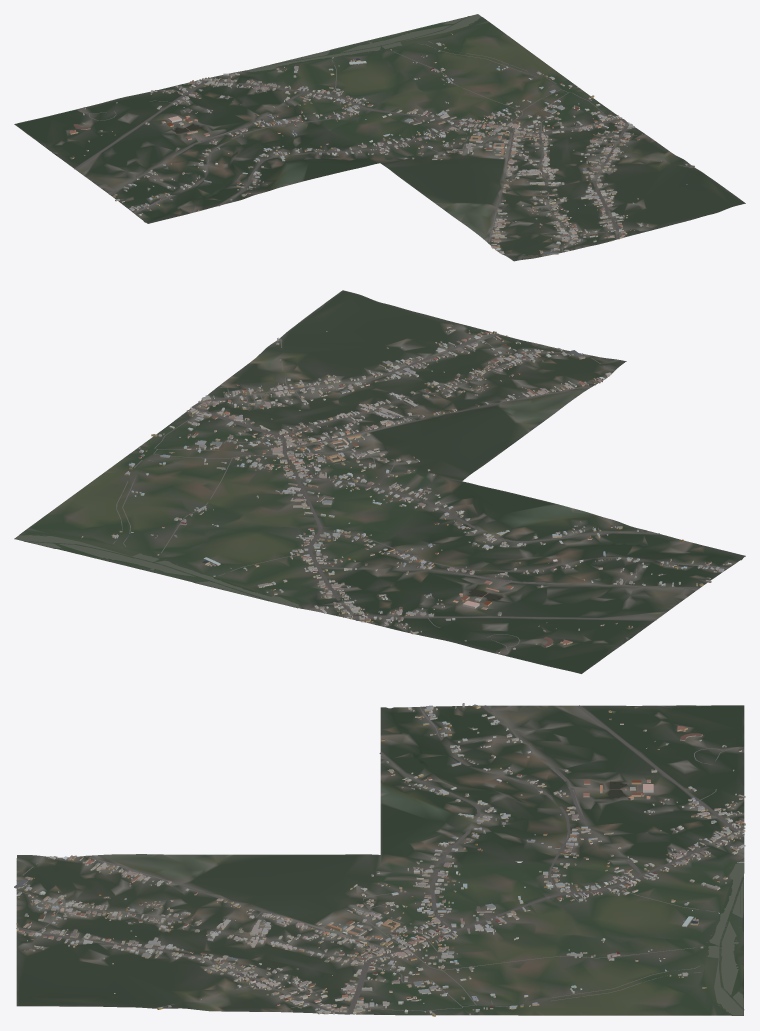
3 views of the same model, one above another, from view 1: azimuth 30°, elevation 25°; view 2: azimuth 150°, elevation 25°; view 3: azimuth 270°, elevation 25° (orthographic). The views are drawn at different scales.
Parts seen in each view (by area): view 1: ground, buildings, roads, water; view 2: ground, buildings, roads, water; view 3: ground, buildings, roads, water.
Boxes of the visible parts, x1=… form: ground: x1=14, y1=16, x2=745, y2=261; buildings: x1=69, y1=33, x2=694, y2=255; roads: x1=74, y1=41, x2=692, y2=255; water: x1=54, y1=14, x2=481, y2=155; ground: x1=14, y1=290, x2=745, y2=673; buildings: x1=81, y1=326, x2=731, y2=653; roads: x1=113, y1=324, x2=728, y2=655; water: x1=14, y1=534, x2=632, y2=639; ground: x1=16, y1=705, x2=744, y2=1015; buildings: x1=14, y1=703, x2=745, y2=1016; roads: x1=16, y1=705, x2=745, y2=1014; water: x1=608, y1=706, x2=744, y2=1015.
Size of the model in its own units: 2822 by 43.75 by 2819.
